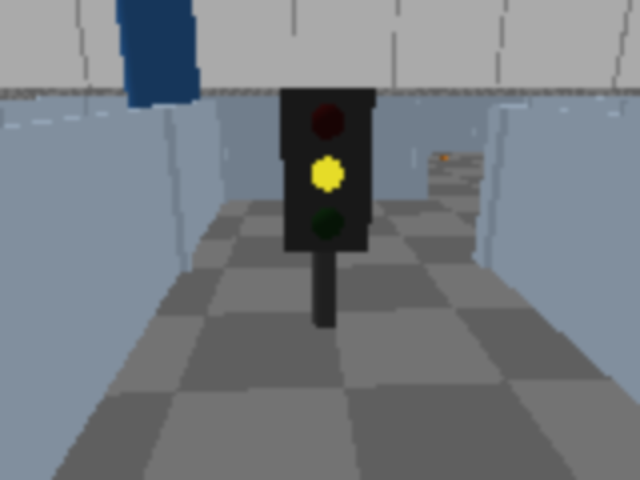traffic_light: (280, 72, 375, 345)
